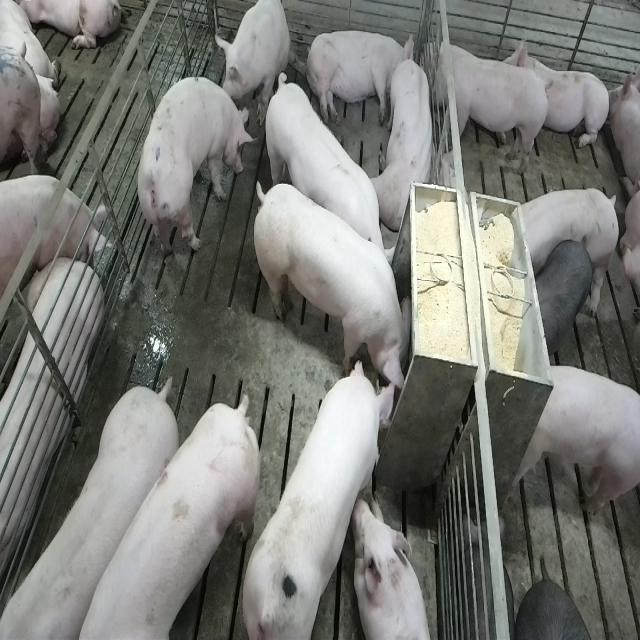Feeding: (242, 355, 407, 634), (256, 176, 418, 410)
Lateral_lying: (0, 253, 101, 613), (304, 28, 414, 128)
Sitting: (218, 0, 294, 115)
Standing: (51, 389, 260, 640), (0, 381, 176, 640), (261, 72, 394, 285), (136, 73, 252, 275), (509, 365, 638, 520), (423, 33, 553, 180), (0, 174, 106, 306), (509, 185, 618, 276), (533, 234, 599, 358)
Sternal_lying: (508, 32, 611, 154), (374, 45, 438, 231), (355, 495, 434, 640)
